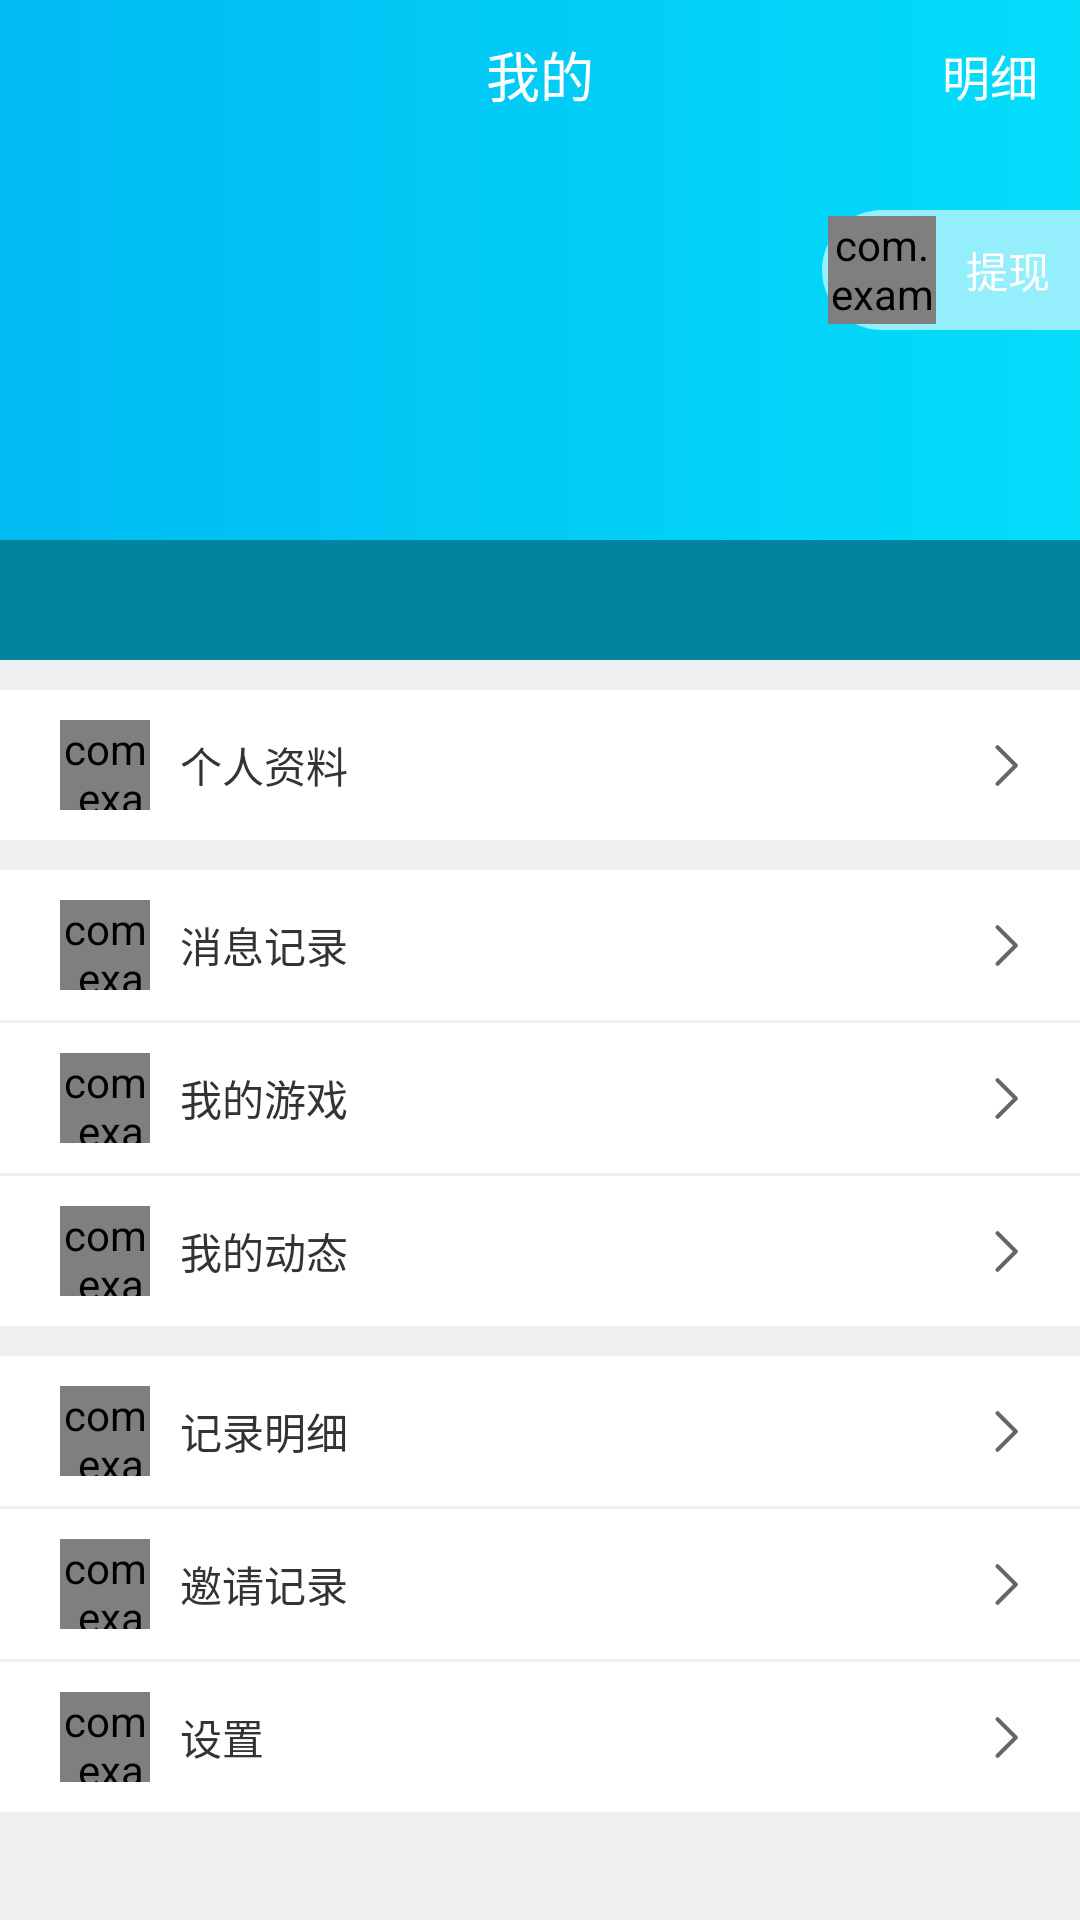

Icons on this 1080 × 1920 Android screen, each with its box as (x1,y1,x2,y2):
right: (995,745,1018,786), (995,925,1018,966), (995,1078,1018,1119), (995,1231,1018,1272), (995,1411,1018,1452), (995,1564,1018,1605), (995,1717,1018,1758)
